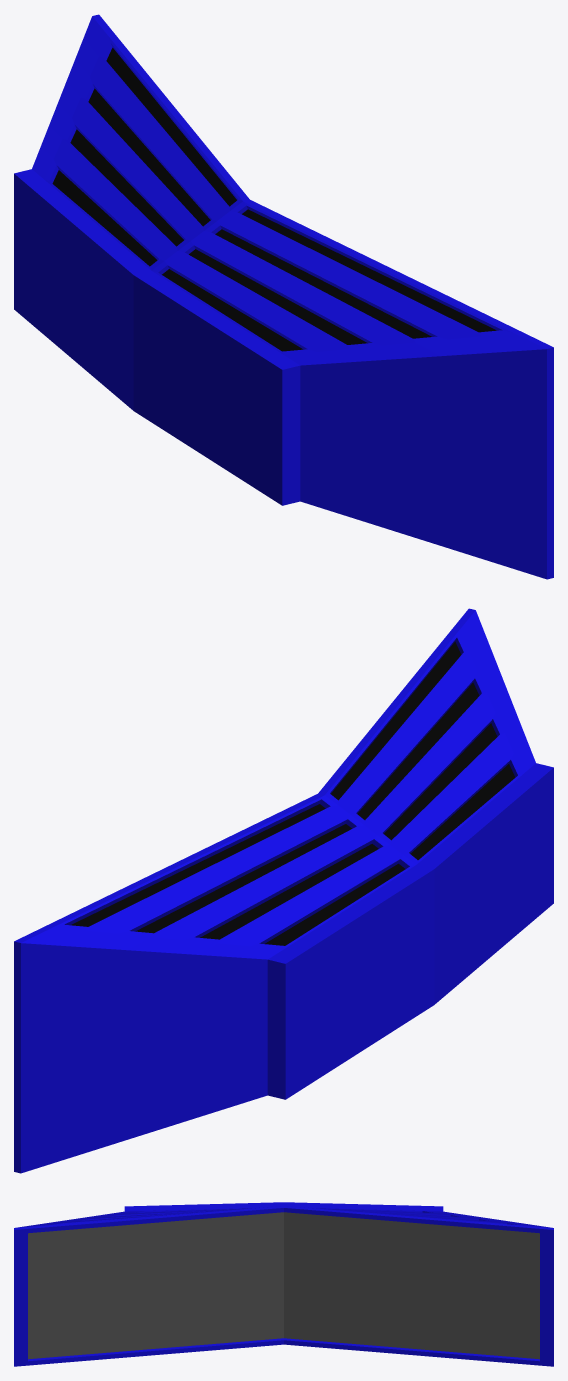
Rendered from BluePawn.fbx.
3 views of the same model, one above another, from view 1: azimuth 30°, elevation 25°; view 2: azimuth 150°, elevation 25°; view 3: azimuth 270°, elevation 25° (orthographic). The views are drawn at different scales.
Parts seen in each view (by area): view 1: Cube.002; view 2: Cube.002; view 3: Cube.002.
Boxes of the visible parts, x1,y1,x2,y2 form: Cube.002: [14, 14, 553, 579]; Cube.002: [14, 608, 553, 1173]; Cube.002: [14, 1202, 553, 1366].
Bounding box in the file's own units: 4077 × 4657 × 16665.
